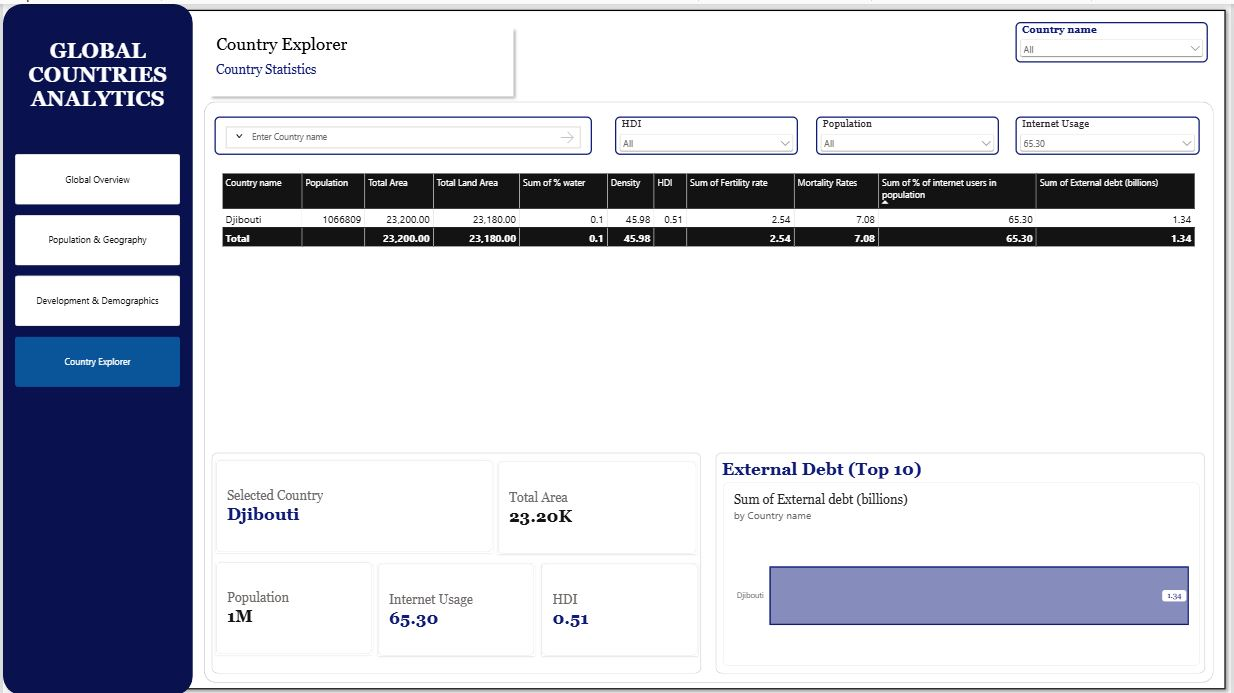

The dashboard page shown, as its layout file describes it:
{"tool":"powerbi","page":{"name":"Country Explorer","canvas":[1920,1080],"ordinal":3},"visuals":[{"type":"shape","box":[0,0,1920.1,1080.4],"z":0},{"type":"shape","box":[313.1,27.1,492.2,124.9],"z":0,"group":"g1"},{"type":"shape","box":[0,0,296.8,1080.4],"z":1000},{"type":"shape","box":[331.3,90.7,457.8,34.4],"z":1000,"group":"g1"},{"type":"pageNavigator","box":[18.1,235.3,258.8,365.6],"z":2000},{"type":"shape","box":[18.1,27.1,258.8,170.1],"z":3000},{"type":"group","id":"g1","title":"Group 1","box":[313.1,27.1,492.2,124.9],"z":4000},{"type":"textbox","box":[1241.4,269.6,56.1,56.1],"z":5000},{"type":"shape","box":[313.1,152,1578,908.4],"z":6000},{"type":"slicer","fields":{"Values":["country_stats.% of internet users in population"]},"box":[1583.5,175.5,287.7,59.7],"z":7000},{"type":"slicer","fields":{"Values":["country_stats.Population"]},"box":[1270.4,175.5,285.9,59.7],"z":8000},{"type":"slicer","fields":{"Values":["country_stats.HDI"]},"box":[955.5,175.5,285.9,59.7],"z":9000},{"type":"tableEx","fields":{"Values":["country_stats.Country name","country_stats.Population","country_stats.Total Area","country_stats.Total Land Area","Sum(country_stats.% water)","country_stats.Density","country_stats.HDI","Sum(country_stats.Fertility rate)","country_stats.Mortality Rates","Sum(country_stats.% of internet users in population)","Sum(country_stats.External debt (billions))"]},"box":[325.7,249.7,1558.1,437.9],"z":10000},{"type":"shape","box":[1114.8,700.1,765.5,345.6],"z":11000},{"type":"hundredPercentStackedBarChart","fields":{"Category":["country_stats.Country name"],"Y":["Sum(country_stats.External debt (billions))"]},"box":[1125.6,747.4,745.6,285.9],"z":12000},{"type":"slicer","fields":{"Values":["country_stats.Country name"]},"box":[1583.5,27.1,300.4,63.3],"z":13000},{"type":"textSlicer","fields":{"Values":["country_stats.Country name"]},"box":[331.2,175.5,589.9,59.7],"z":14000},{"type":"shape","box":[326.1,700.1,765.5,345.6],"z":15000},{"type":"cardVisual","fields":{"Data":["country_stats.Selected Country"]},"box":[331.8,712.7,432.6,144.8],"z":16000},{"type":"cardVisual","fields":{"Data":["country_stats.Selected Population"]},"box":[331.8,873,244.6,144.8],"z":17000},{"type":"cardVisual","fields":{"Data":["country_stats.Selected Total Area"]},"box":[774.6,714.1,310.7,144.8],"z":18000},{"type":"cardVisual","fields":{"Data":["country_stats.Selected HDI"]},"box":[840.7,874.4,244.6,144.8],"z":19000},{"type":"cardVisual","fields":{"Data":["country_stats.Selected Internet Usage"]},"box":[586.2,874.4,244.6,144.8],"z":20000}]}

Visuals, with their boxes in screenshot pixels (x1, y1, x2, y2), scaled from the page's 1920x1080 canvas onto the 1234x693 screenshot:
shape: (0,0,1233,692)
shape: (201,17,518,98)
shape: (0,0,191,692)
shape: (213,58,507,80)
pageNavigator: (12,151,178,386)
shape: (12,17,178,127)
"Group 1" group: (201,17,518,98)
textbox: (798,173,834,209)
shape: (201,98,1215,680)
slicer - country_stats.% of internet users in population: (1018,113,1203,151)
slicer - country_stats.Population: (816,113,1000,151)
slicer - country_stats.HDI: (614,113,798,151)
tableEx - country_stats.Country name x country_stats.Population: (209,160,1211,441)
shape: (716,449,1208,671)
hundredPercentStackedBarChart - country_stats.Country name x Sum(country_stats.External debt (billions)): (723,480,1203,663)
slicer - country_stats.Country name: (1018,17,1211,58)
textSlicer - country_stats.Country name: (213,113,592,151)
shape: (210,449,702,671)
cardVisual - country_stats.Selected Country: (213,457,491,550)
cardVisual - country_stats.Selected Population: (213,560,370,653)
cardVisual - country_stats.Selected Total Area: (498,458,698,551)
cardVisual - country_stats.Selected HDI: (540,561,698,654)
cardVisual - country_stats.Selected Internet Usage: (377,561,534,654)
